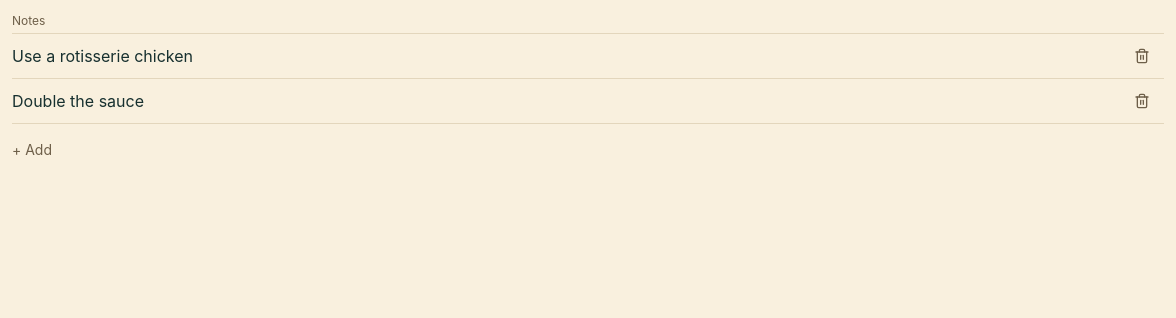
Test case: NoteList › opens a note for editing on a long press, with its text and the cursor at the end
Press the mouse on the button "Double the sauce" at (78, 101), box [12,79,1112,123]
Wait 500 ms
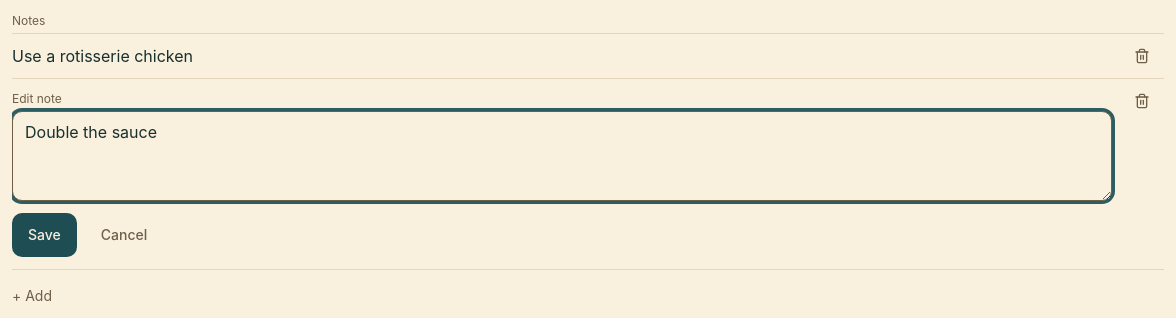
Expected: the text box labelled "Edit note" holds "Double the sauce", [12,111,1112,201]
